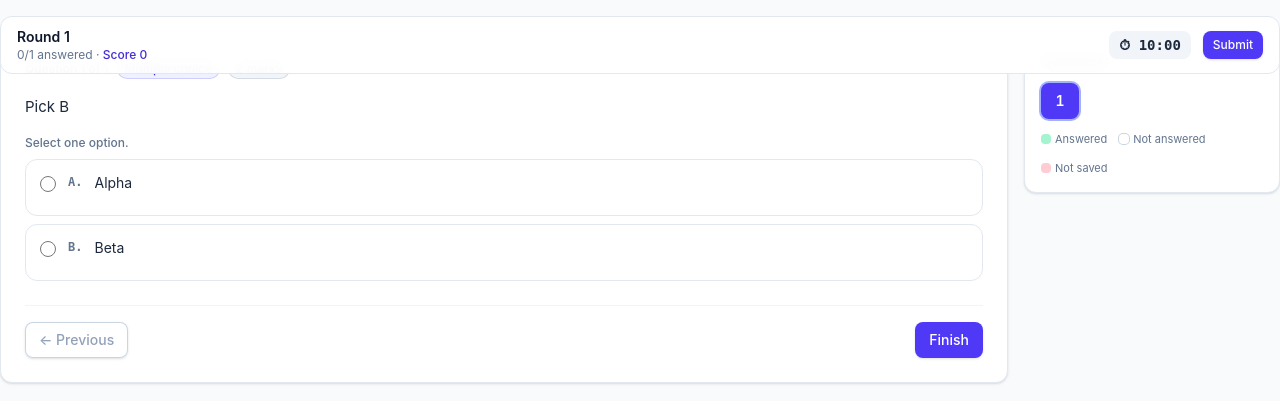
AttemptPage › autosaves answers even under StrictMode double-mounting
The width and height of the screenshot is (1280, 401).
Step 1. Click the radio button labelled "B. Beta" → (48, 249), box [40,241,56,257]
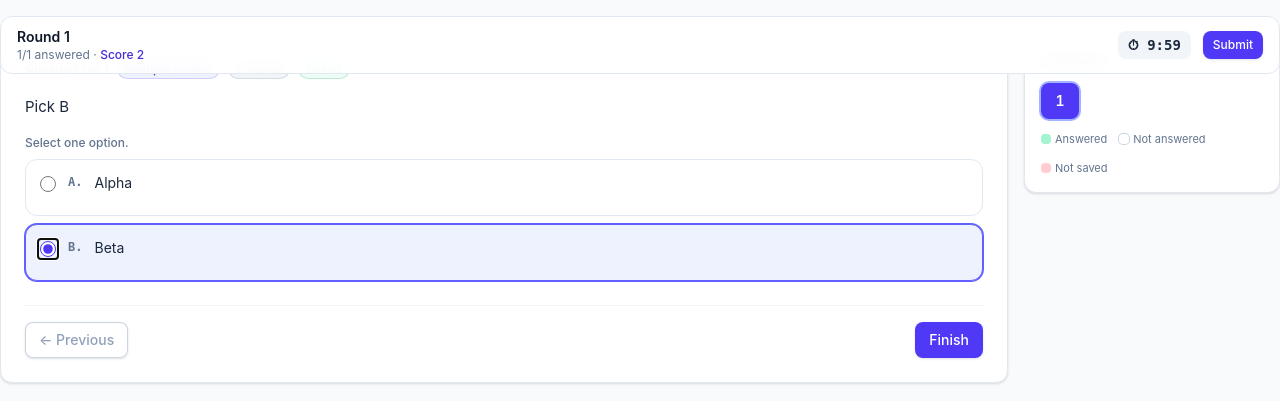
Result: the text "Saved" is shown at [298,59,350,79]
Result: the text "Score 2" is shown at [100,47,144,62]
